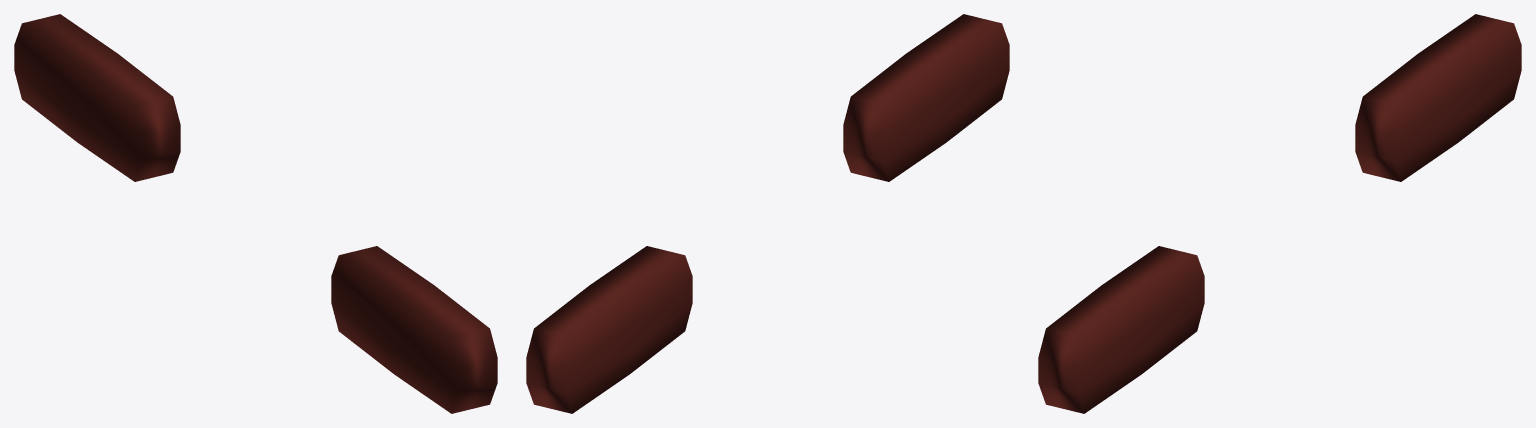
File: StevieEyes.glb
3 renders of one model, left to right at view 1: azimuth 30°, elevation 25°; view 2: azimuth 150°, elevation 25°; view 3: azimuth 330°, elevation 25°, orthographic.
Visible parts, largest first — view 1: MadotsukiEyes; view 2: MadotsukiEyes; view 3: MadotsukiEyes.
Part boxes in pixels (<box>): MadotsukiEyes: <box>14,14,497,413</box>; MadotsukiEyes: <box>526,14,1009,413</box>; MadotsukiEyes: <box>1038,14,1521,413</box>.
Size of the model in its own units: 0.2033 by 0.3165 by 3.19.
